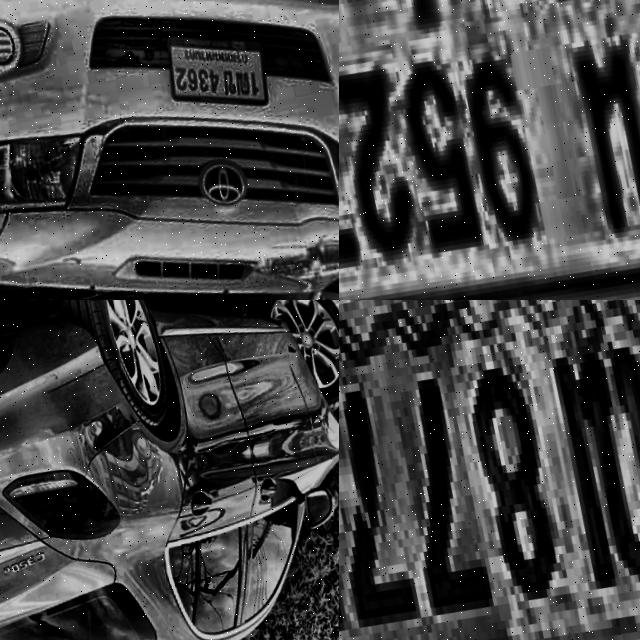license-plate: (339, 300, 640, 640), (339, 0, 640, 300), (154, 3, 280, 121)
